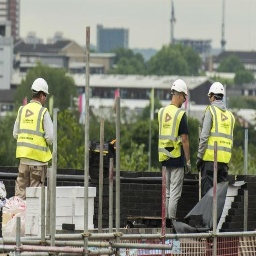helmet: (170, 77, 194, 97), (30, 78, 50, 97), (207, 82, 226, 97)
person: (154, 80, 194, 225), (14, 76, 56, 196), (197, 80, 235, 194)
vest: (15, 101, 55, 168), (197, 104, 234, 174), (156, 106, 188, 172)
